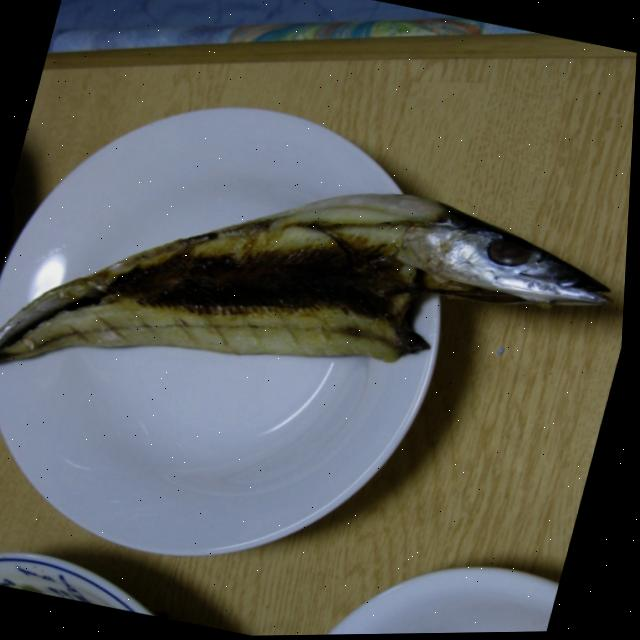熟制海鲜: (0, 89, 636, 470)
